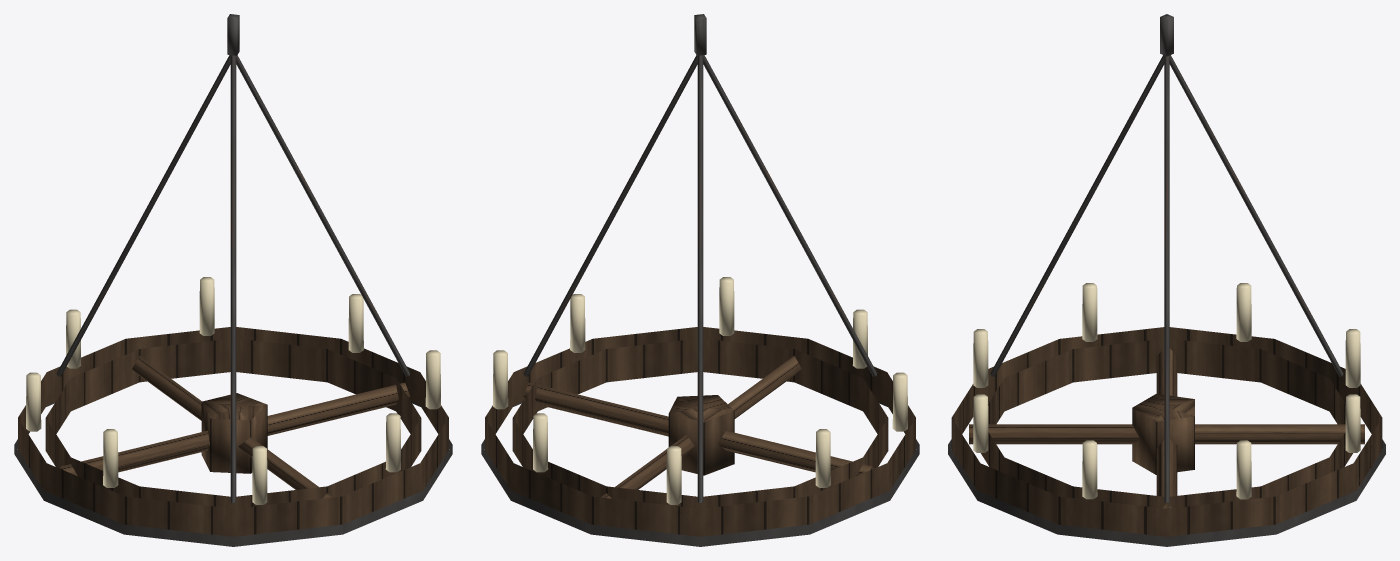
The model's file is Chandelier_LOD1.gltf.
The picture shows the model from 3 angles, left to right: view 1: azimuth 30°, elevation 25°; view 2: azimuth 150°, elevation 25°; view 3: azimuth 270°, elevation 25°; orthographic projection.
Parts seen in each view (by area): view 1: Chandelier_LOD1; view 2: Chandelier_LOD1; view 3: Chandelier_LOD1.
Part boxes in pixels (x1,y1,x2,y2): Chandelier_LOD1: (14, 14, 452, 546); Chandelier_LOD1: (481, 14, 919, 546); Chandelier_LOD1: (948, 14, 1385, 546).
Size of the model in its own units: 1.3 by 1.46 by 1.3.
3 materials, 3 textured.
